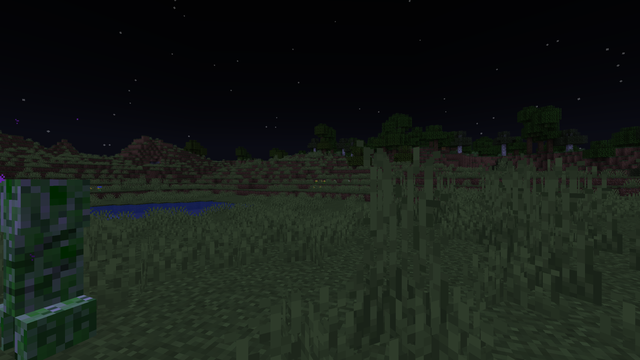creepers: (1, 170, 98, 358)
